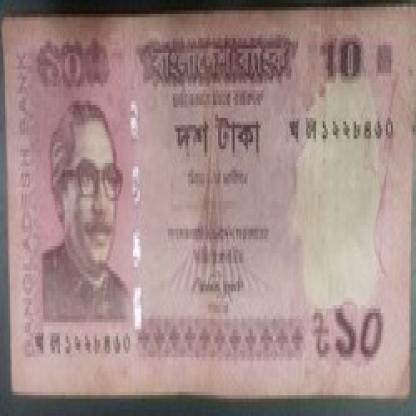Ten Taka: (331, 292, 393, 375), (318, 28, 366, 97), (45, 38, 88, 90)
